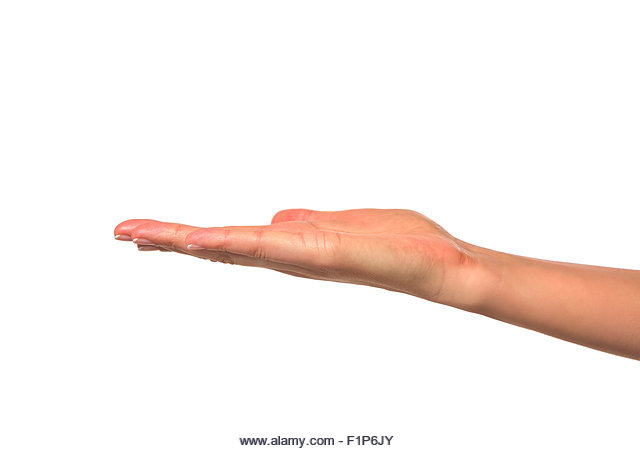hand: (75, 186, 487, 337)
